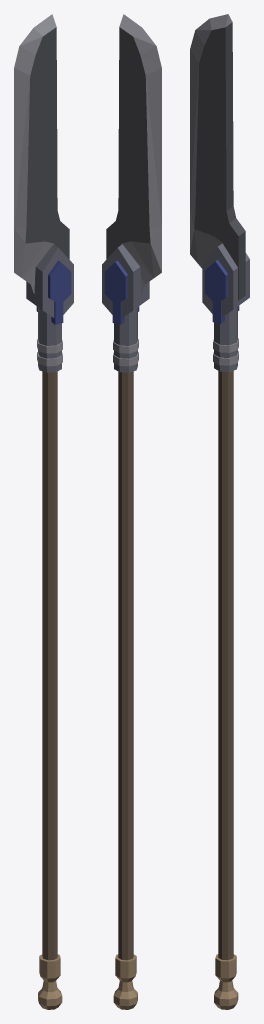
File: Lanca_A20.fbx
3 renders of one model, left to right at view 1: azimuth 30°, elevation 25°; view 2: azimuth 150°, elevation 25°; view 3: azimuth 330°, elevation 25°, orthographic.
Visible parts, largest first — view 1: polearm_20; view 2: polearm_20; view 3: polearm_20.
Boxes of the visible parts, x1,y1,x2,y2 form: polearm_20: [14, 14, 73, 1009]; polearm_20: [102, 14, 161, 1009]; polearm_20: [190, 14, 249, 1009].
Bounding box in the file's own units: 11.43 × 208 × 8.13.
